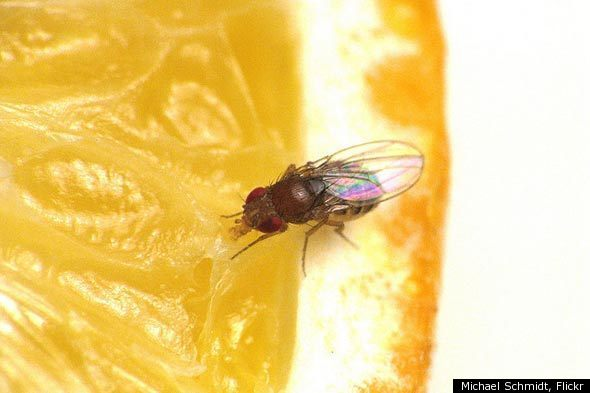phorid fly: (213, 129, 430, 266)
